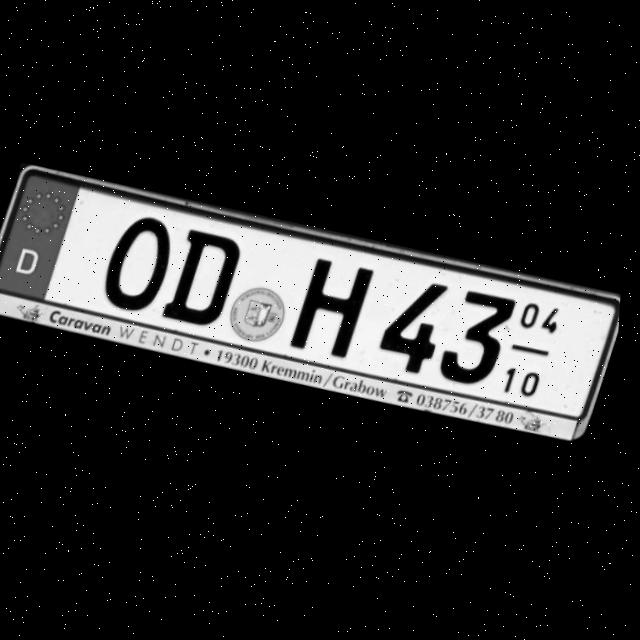license-plates: (0, 166, 620, 441)
